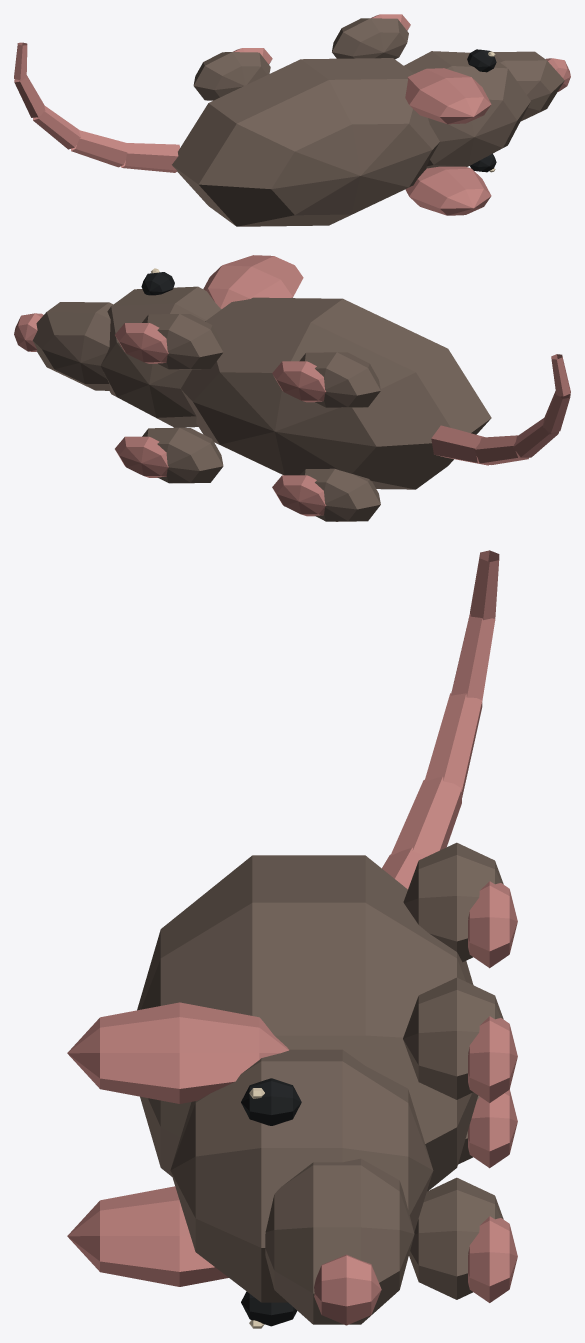
The model's file is rat-trial-v1.obj.
3 renders of one model, top to bottom at view 1: azimuth 30°, elevation 25°; view 2: azimuth 150°, elevation 25°; view 3: azimuth 270°, elevation 25°, orthographic. The views are drawn at different scales.
Visible parts, largest first — view 1: rat_trial_v1; view 2: rat_trial_v1; view 3: rat_trial_v1.
Part boxes in pixels (x1,y1,x2,y2): rat_trial_v1: [14, 14, 570, 226]; rat_trial_v1: [14, 255, 570, 521]; rat_trial_v1: [67, 550, 517, 1328].
Bounding box in the file's own units: 5.13 × 1.89 × 1.92.
